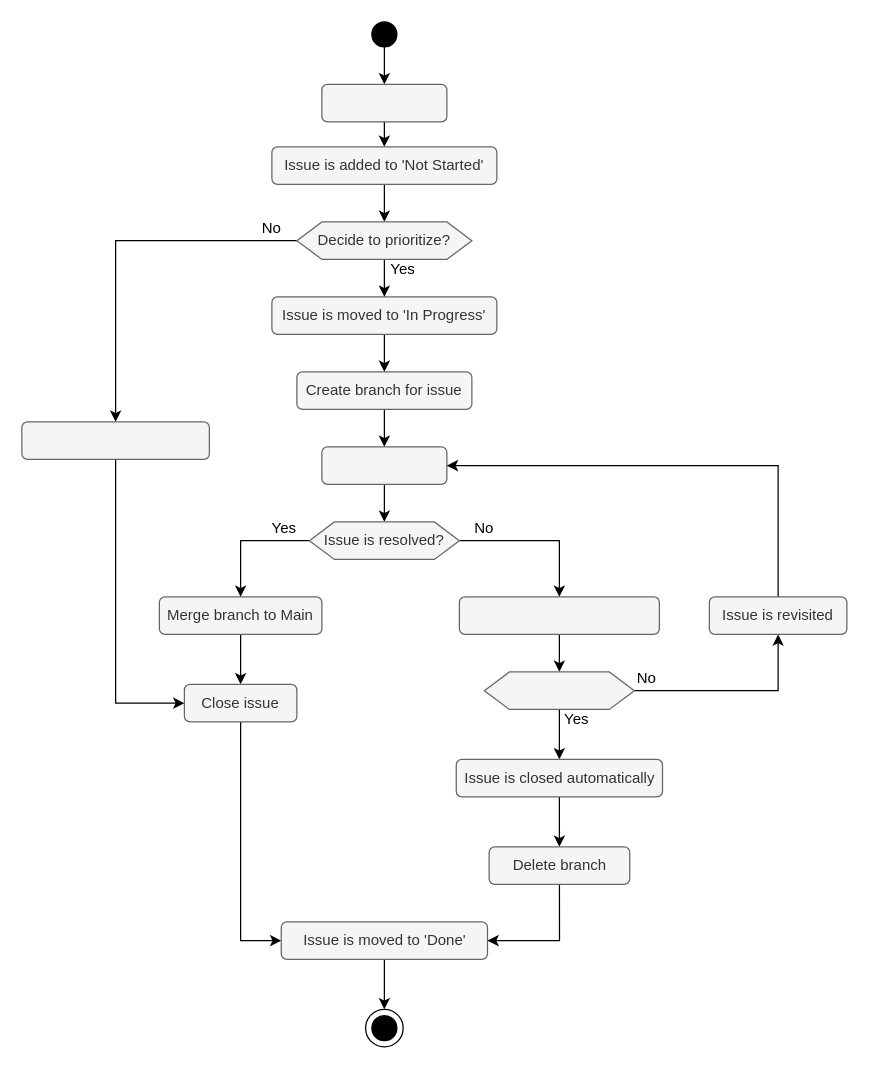
Image size: 869x1069. Some labels were removed from this diagram. The shapes that lost their labels are listed below. From the top down, each one's centre as x and y in pixels, then its label:
At [384,102]: "Create issue".
At [115,440]: "Add comment to issue".
At [384,465]: "Work on issue".
At [558,615]: "Issue is moved to 'On Hold'".
At [558,690]: "Issue is outdated?".
